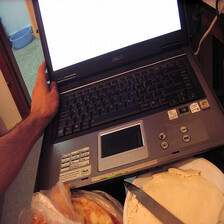laptop: (25, 1, 224, 211)
